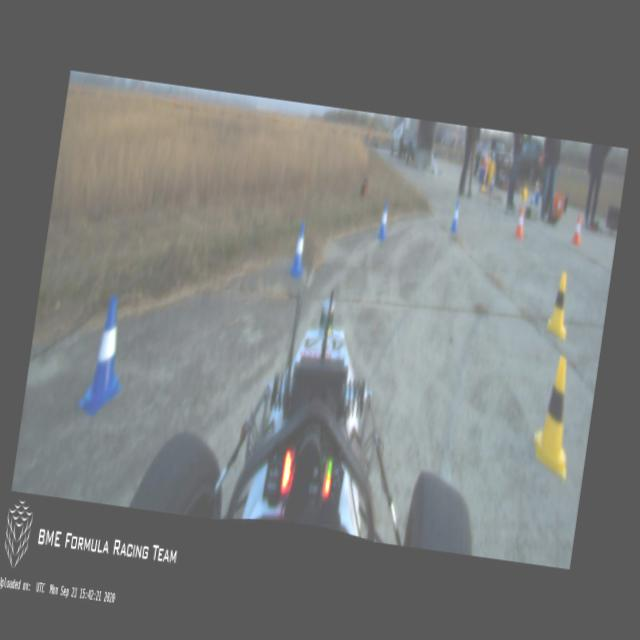blue_cone: (76, 294, 134, 419), (290, 223, 308, 275), (376, 200, 392, 240), (449, 200, 462, 232)
orange_cone: (514, 207, 528, 239), (572, 214, 584, 246)
yellow_cone: (528, 354, 582, 478), (546, 272, 574, 340), (480, 174, 488, 192)
